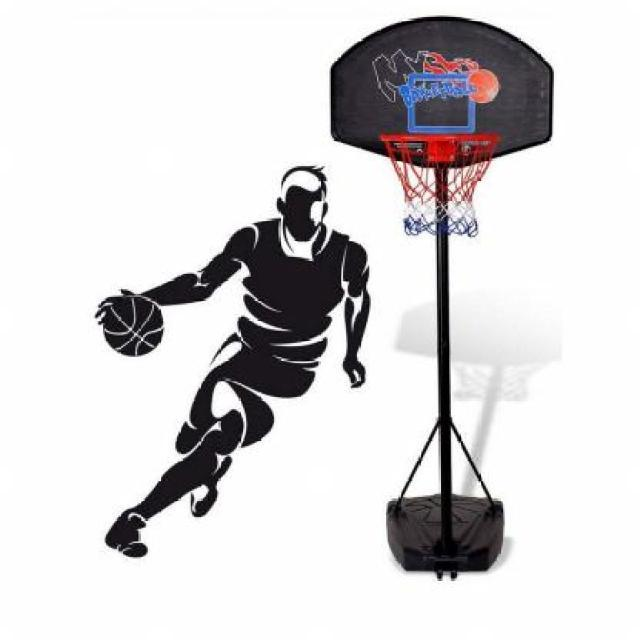rim: (378, 134, 502, 234)
